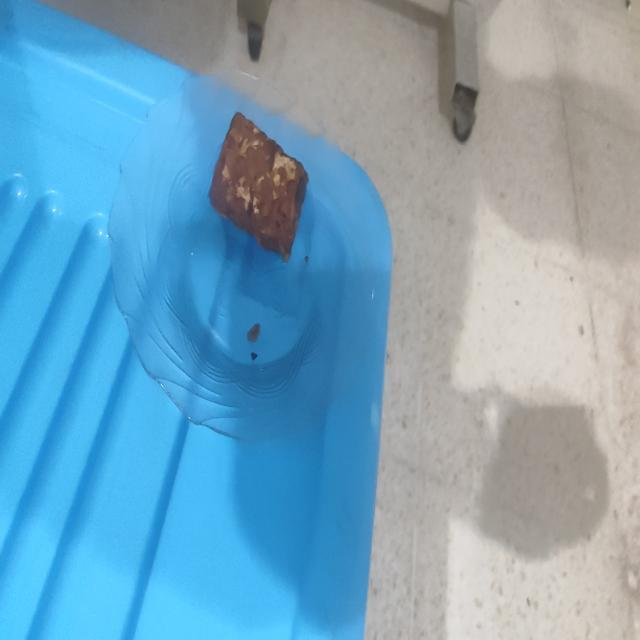tempe_goreng: (209, 112, 308, 262)
